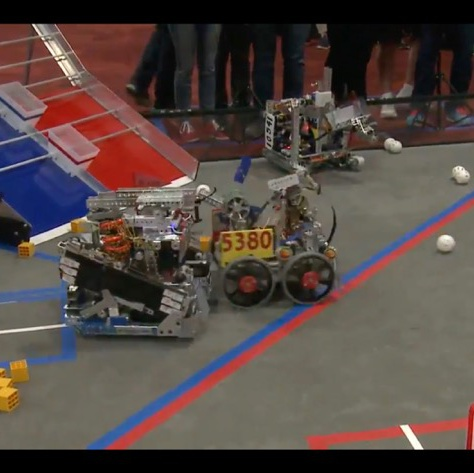robot: (53, 182, 216, 342), (211, 181, 346, 304), (258, 83, 375, 180)
